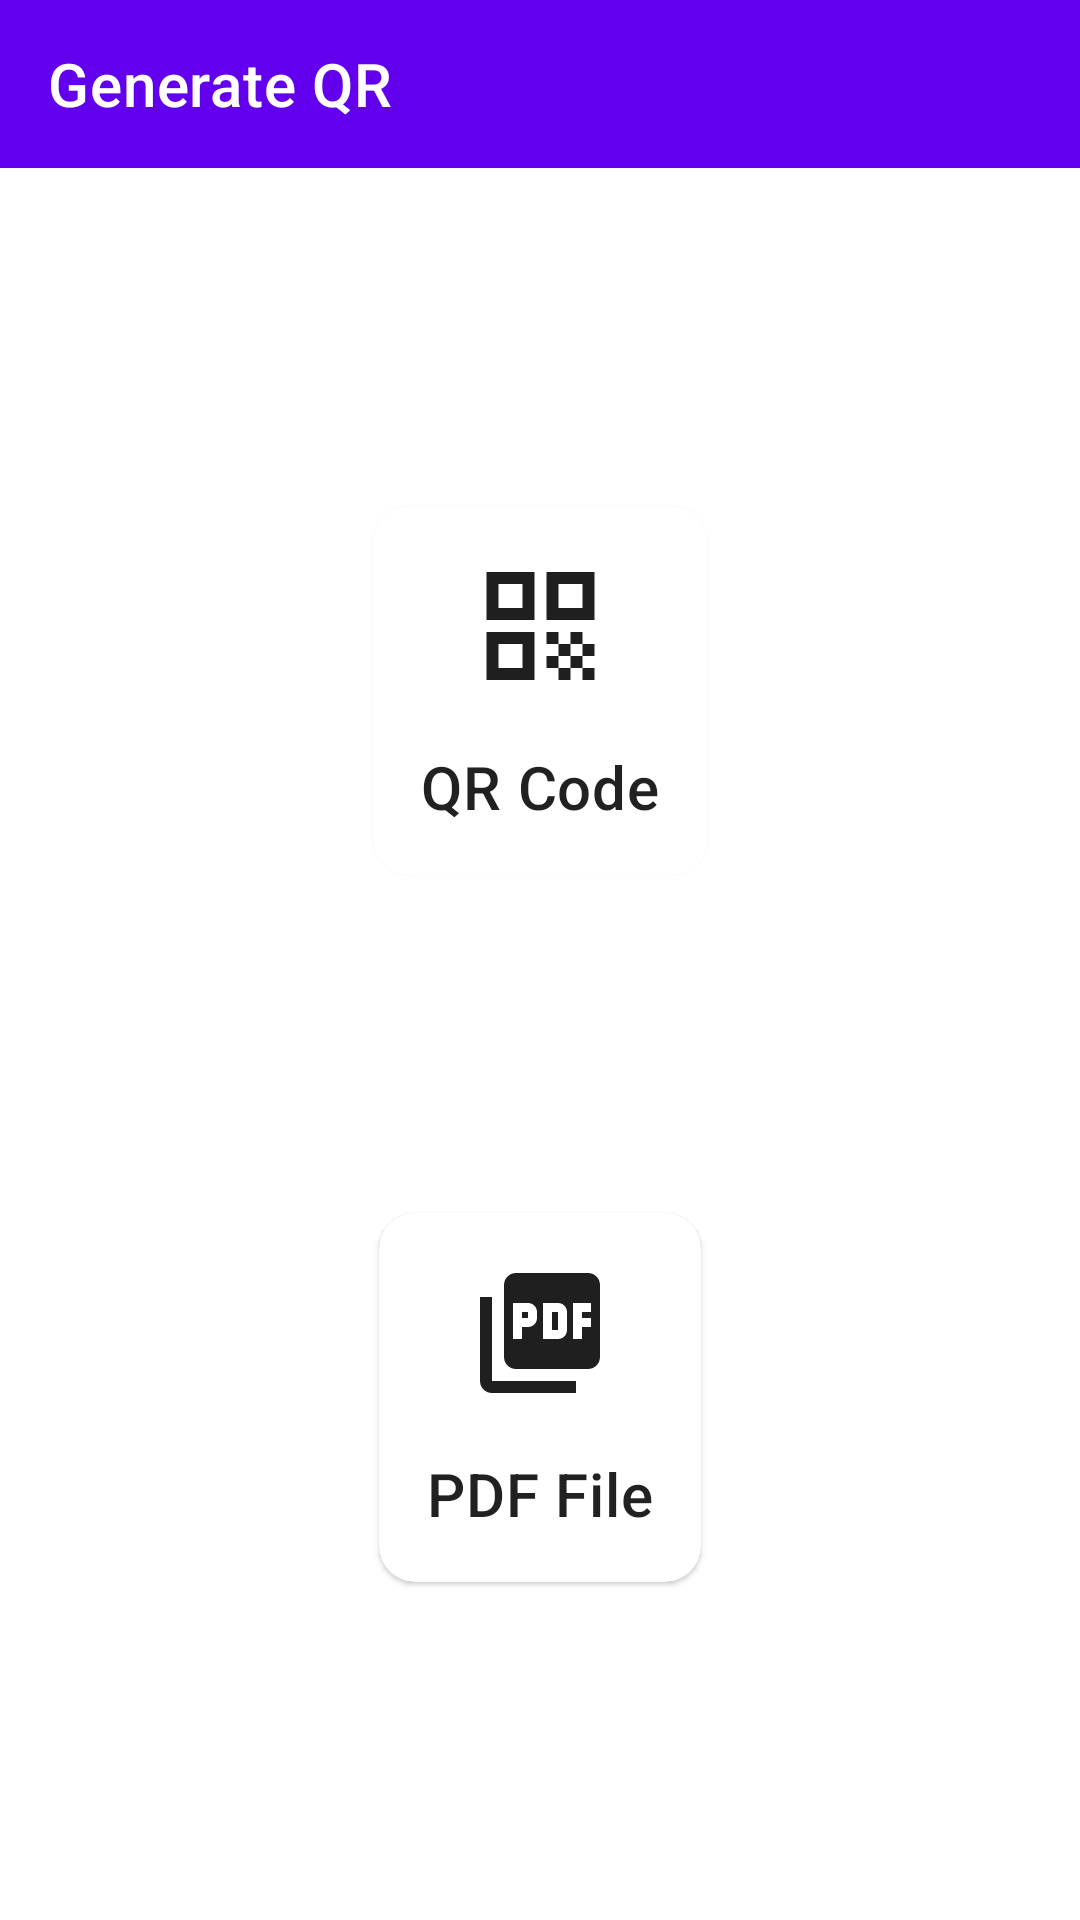

Where to tap for icons on this 1080 x 1920 app screen, as (x=x, y=y):
picture as pdf: (x=540, y=1333)
